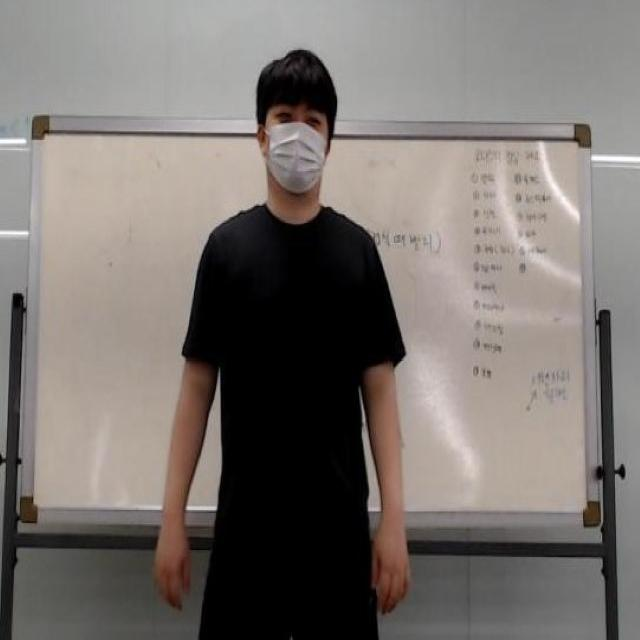Instructor: (173, 45, 374, 578)
White-board: (30, 121, 595, 516)
